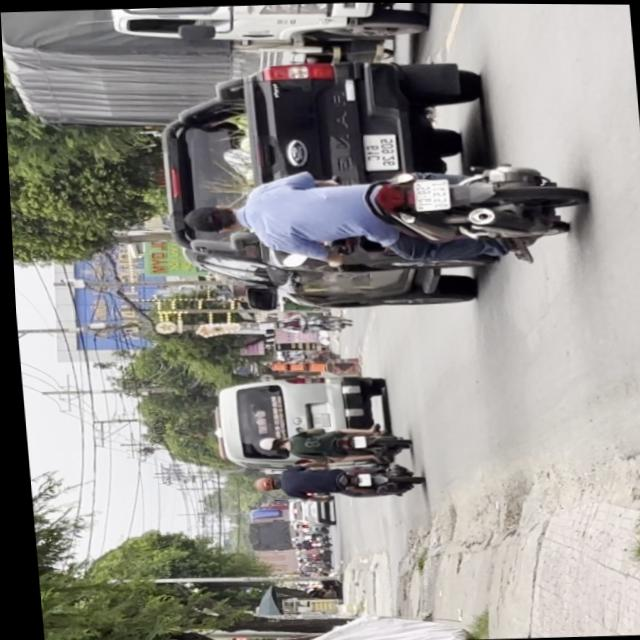licenseplate: (174, 152, 587, 273)
motorcyclist: (180, 200, 240, 232)
nohelmet: (410, 177, 449, 209)
